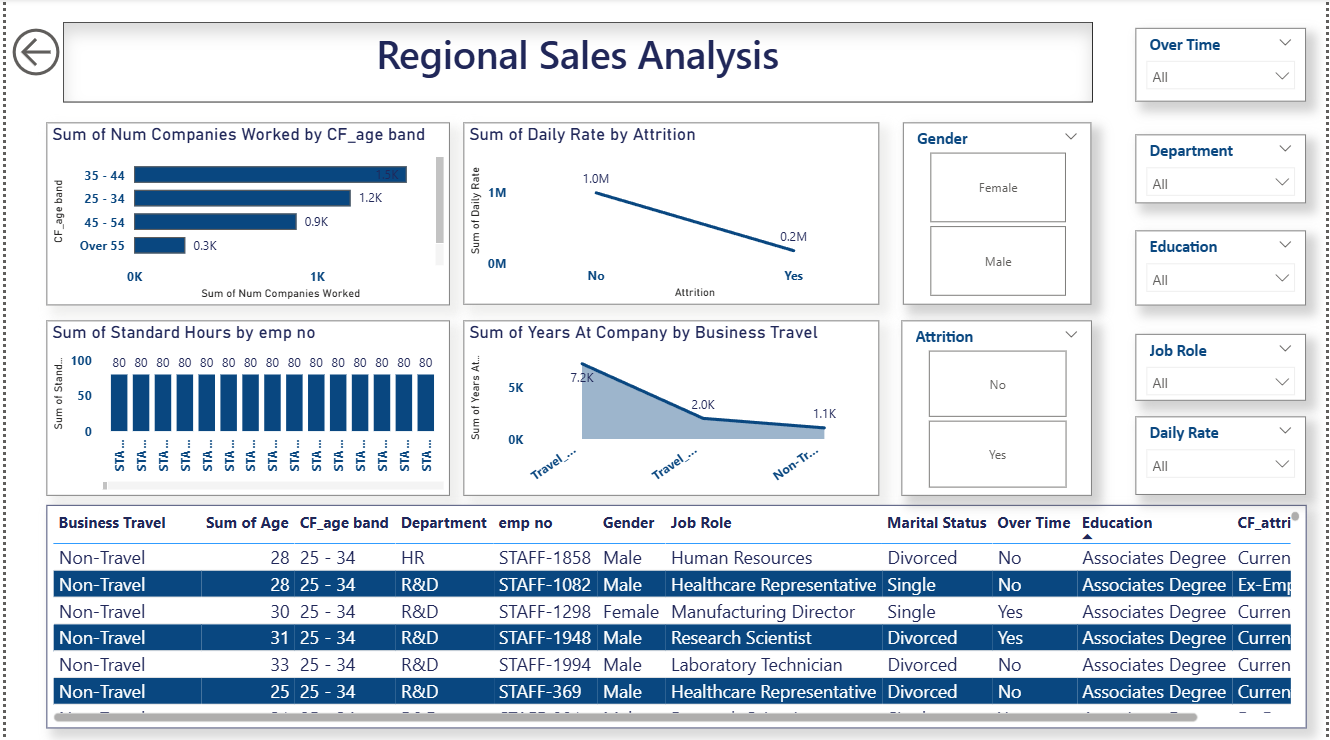

The dashboard page shown, as its layout file describes it:
{"tool":"powerbi","page":{"name":"Regional Info Analysis","canvas":[1280,720],"ordinal":1},"visuals":[{"type":"textbox","box":[55.1,22.7,999.1,77.7],"z":0},{"type":"barChart","fields":{"Y":["Sum(Table1.Num Companies Worked)"],"Category":["Table1.CF_age band"]},"box":[39.3,120.8,391.5,177.6],"z":1000},{"type":"lineChart","fields":{"Category":["Table1.Attrition"],"Y":["Sum(Table1.Daily Rate)"]},"box":[443.7,121.4,403.2,176.5],"z":2000},{"type":"lineStackedColumnComboChart","fields":{"Y":["Sum(Table1.Standard Hours)"],"Category":["Table1.emp no"]},"box":[39.3,312.9,391.5,170.3],"z":3000},{"type":"areaChart","fields":{"Y":["Sum(Table1.Years At Company)"],"Category":["Table1.Business Travel"]},"box":[443.7,312.5,403.2,170],"z":4000},{"type":"tableEx","fields":{"Values":["Table1.Business Travel","Sum(Table1.Age)","Table1.CF_age band","Table1.Department","Table1.emp no","Table1.Gender","Table1.Job Role","Table1.Marital Status","Table1.Over Time","Table1.Education","Table1.CF_attrition label"]},"box":[38.9,492.2,1222.5,217],"z":6000},{"type":"slicer","fields":{"Values":["Table1.Department"]},"box":[1096.2,132.8,165.2,66.4],"z":7000},{"type":"slicer","fields":{"Values":["Table1.Education"]},"box":[1096.2,225.1,165.2,72.9],"z":8000},{"type":"slicer","fields":{"Values":["Table1.Job Role"]},"box":[1096.2,325.5,165.2,64.8],"z":9000},{"type":"slicer","fields":{"Values":["Table1.Daily Rate"]},"box":[1096.2,406.4,165.2,76.1],"z":10000},{"type":"slicer","fields":{"Values":["Table1.Gender"]},"box":[871.1,121.4,183,176.5],"z":11000},{"type":"slicer","fields":{"Values":["Table1.Attrition"]},"box":[869.5,312.5,184.6,170],"z":12000},{"type":"slicer","fields":{"Values":["Table1.Over Time"]},"box":[1096.2,29.1,165.2,71.2],"z":13000},{"type":"actionButton","box":[0,22.7,68,58.3],"z":14000}]}

Visuals, with their boxes in screenshot pixels (x1, y1, x2, y2), scaled from the page's 1280x720 canvas onto the 1330x740 screenshot:
textbox: bbox(57, 23, 1095, 103)
barChart - Sum(Table1.Num Companies Worked) x Table1.CF_age band: bbox(41, 124, 448, 307)
lineChart - Table1.Attrition x Sum(Table1.Daily Rate): bbox(461, 125, 880, 306)
lineStackedColumnComboChart - Sum(Table1.Standard Hours) x Table1.emp no: bbox(41, 322, 448, 497)
areaChart - Sum(Table1.Years At Company) x Table1.Business Travel: bbox(461, 321, 880, 496)
tableEx - Table1.Business Travel x Sum(Table1.Age): bbox(40, 506, 1311, 729)
slicer - Table1.Department: bbox(1139, 136, 1311, 205)
slicer - Table1.Education: bbox(1139, 231, 1311, 306)
slicer - Table1.Job Role: bbox(1139, 335, 1311, 401)
slicer - Table1.Daily Rate: bbox(1139, 418, 1311, 496)
slicer - Table1.Gender: bbox(905, 125, 1095, 306)
slicer - Table1.Attrition: bbox(903, 321, 1095, 496)
slicer - Table1.Over Time: bbox(1139, 30, 1311, 103)
actionButton: bbox(0, 23, 71, 83)
